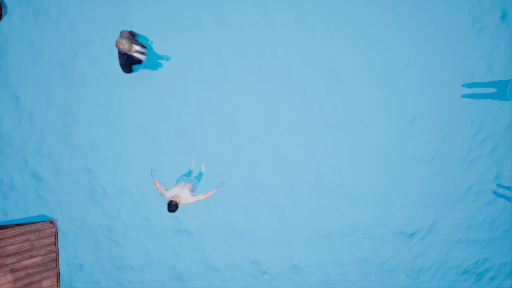person: (149, 159, 232, 217), (117, 32, 170, 77)
